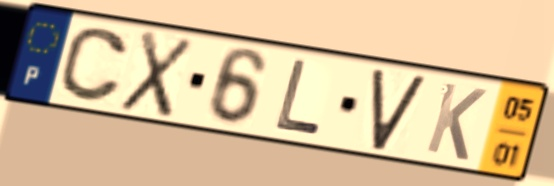6: (204, 45, 271, 130)
C: (55, 25, 132, 106)
K: (421, 79, 490, 165)
L: (271, 56, 325, 140)
V: (369, 68, 431, 154)
X: (115, 27, 198, 122)
